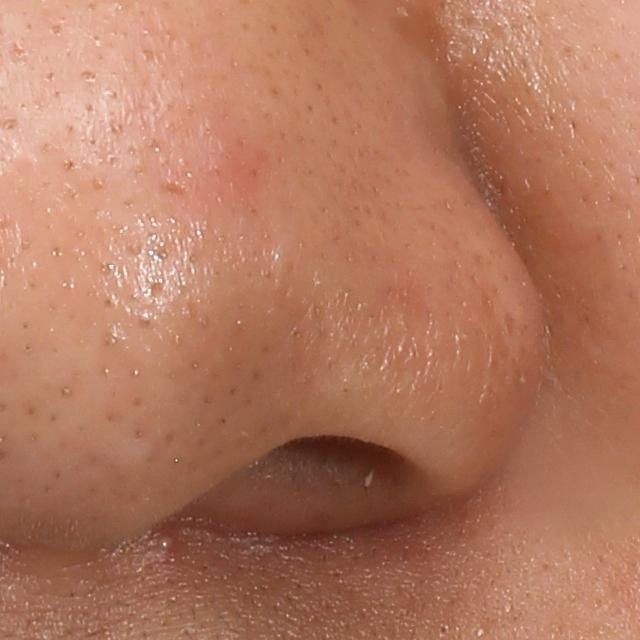comedo: (48, 22, 65, 35)
